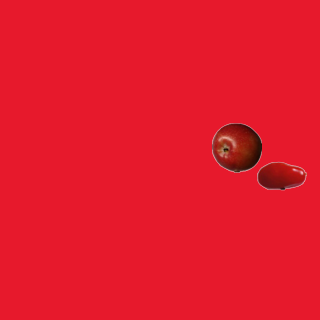Apple Braeburn: (211, 122, 261, 172)
Tomato 2: (256, 150, 306, 200)
